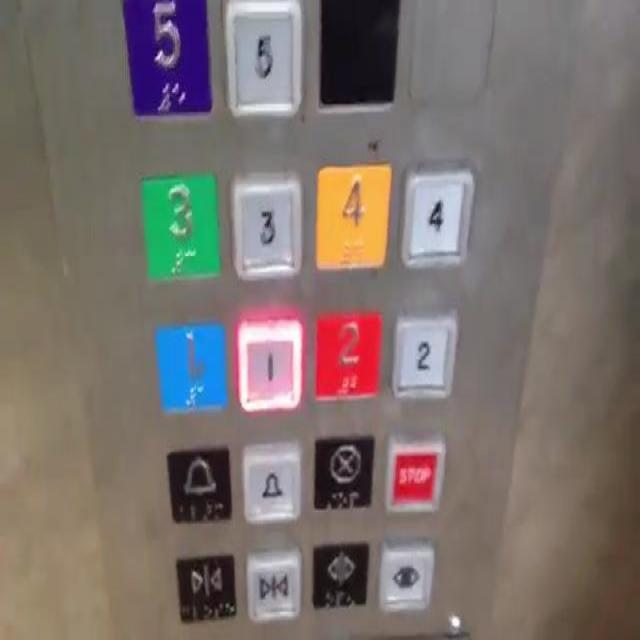1: (234, 312, 305, 415), (154, 322, 228, 410)
2: (311, 303, 384, 405), (392, 311, 458, 397)
3: (139, 172, 222, 280), (229, 168, 302, 283)
4: (315, 164, 391, 268), (399, 170, 474, 266)
5: (120, 0, 213, 116), (220, 0, 302, 115)
alarm: (166, 440, 234, 524), (242, 443, 302, 521)
close: (174, 547, 239, 625), (246, 550, 300, 618)
empty: (314, 0, 401, 112), (410, 0, 495, 100)
open: (308, 535, 371, 612), (378, 545, 434, 608)
stop: (310, 429, 375, 512)
text_stop: (385, 435, 446, 512)
